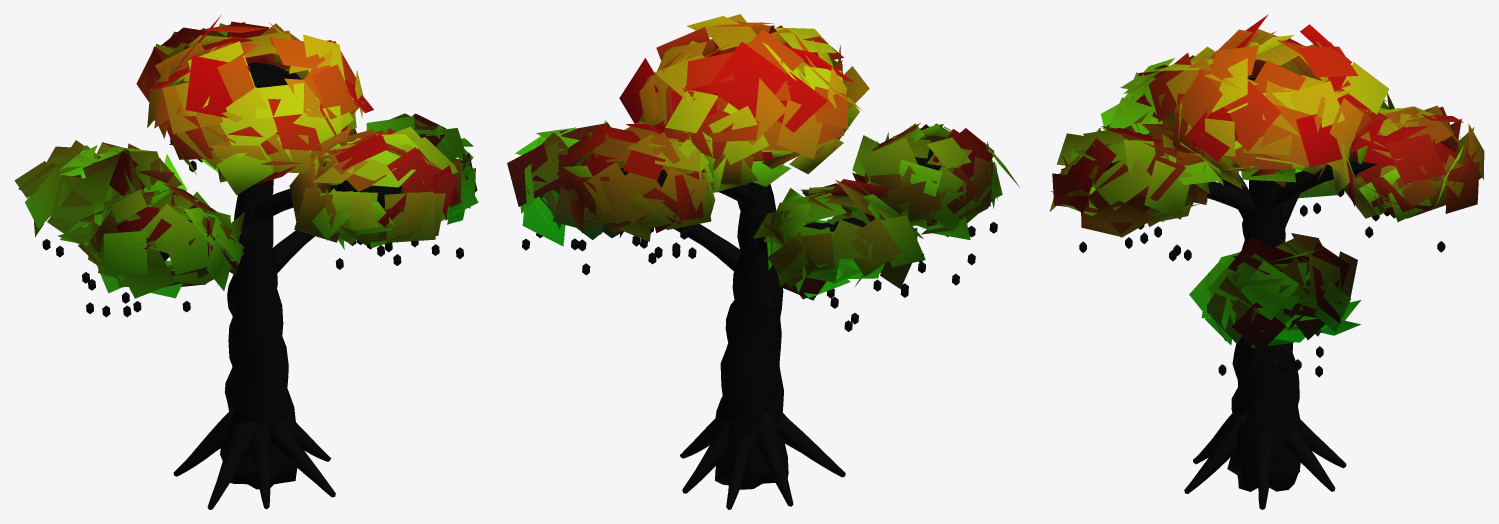
The model's file is env_tree_bg_giant.fbx.
3 views of the same model, side by side, from view 1: azimuth 30°, elevation 25°; view 2: azimuth 150°, elevation 25°; view 3: azimuth 270°, elevation 25° (orthographic).
Visible parts, largest first — view 1: env_tree_bg_giant; view 2: env_tree_bg_giant; view 3: env_tree_bg_giant.
Boxes of the visible parts, left/top/right/bottom form: env_tree_bg_giant: left=14, top=15, right=478, bottom=509; env_tree_bg_giant: left=507, top=14, right=1019, bottom=509; env_tree_bg_giant: left=1049, top=14, right=1484, bottom=509.
Size of the model in its own units: 23.96 by 24.02 by 21.17.
